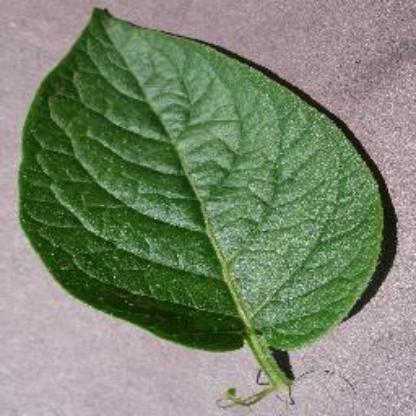Healthy-plant: (17, 3, 393, 403)
